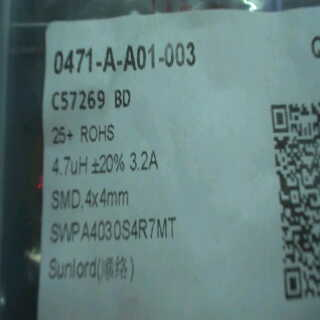4.7uH: (50, 153, 92, 182)
